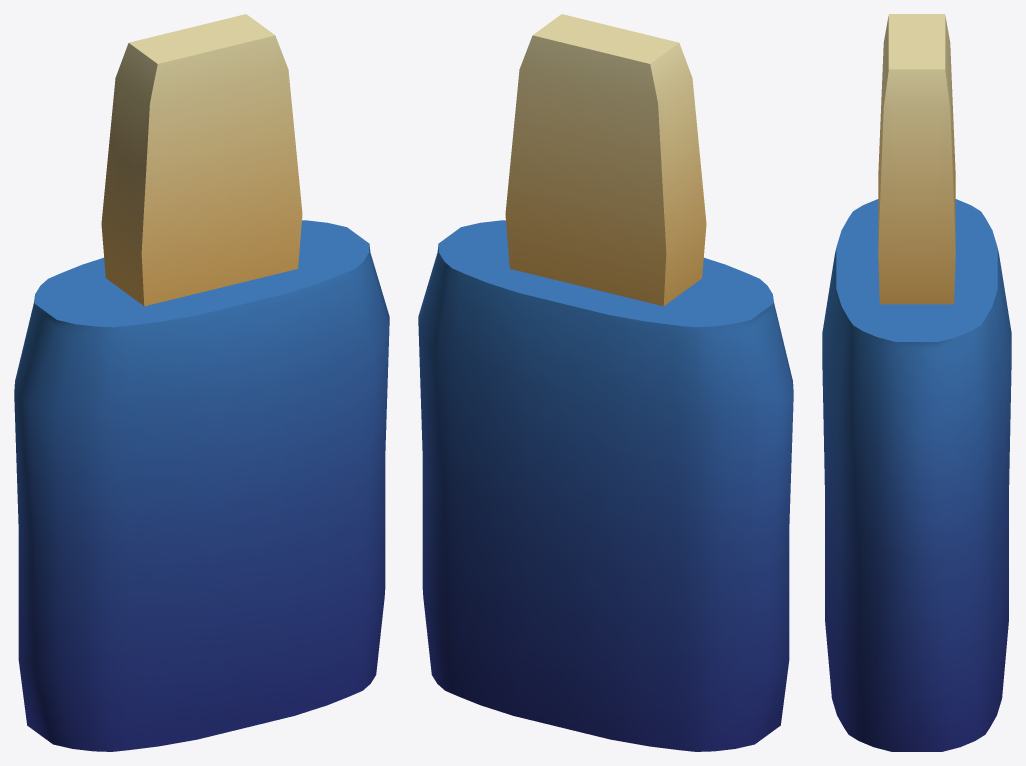
The model's file is nailpolish.fbx.
The picture shows the model from 3 angles, left to right: view 1: azimuth 30°, elevation 25°; view 2: azimuth 150°, elevation 25°; view 3: azimuth 270°, elevation 25°; orthographic projection. The views are drawn at different scales.
Parts seen in each view (by area): view 1: nailpolish; view 2: nailpolish; view 3: nailpolish.
Boxes of the visible parts, box(x1,y1,x2,y2) form: nailpolish: box(14, 14, 389, 751); nailpolish: box(418, 14, 793, 751); nailpolish: box(822, 14, 1011, 751).
Bounding box in the file's own units: 28.55 × 49.76 × 13.47.
